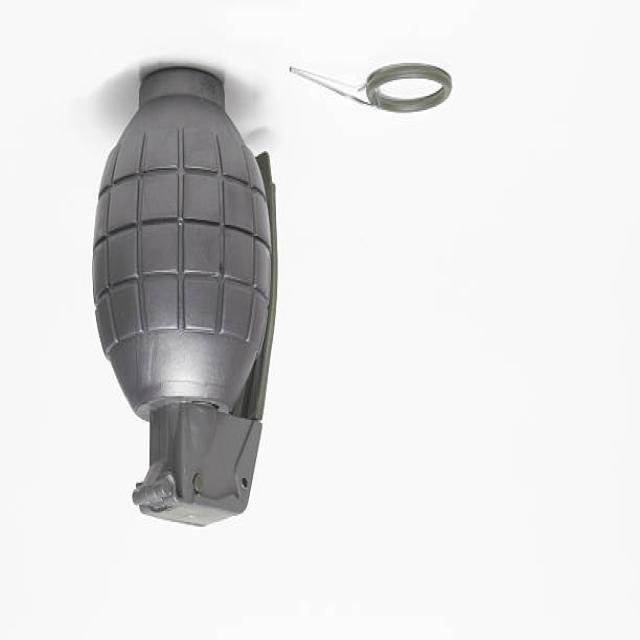grenade: (81, 60, 287, 533)
